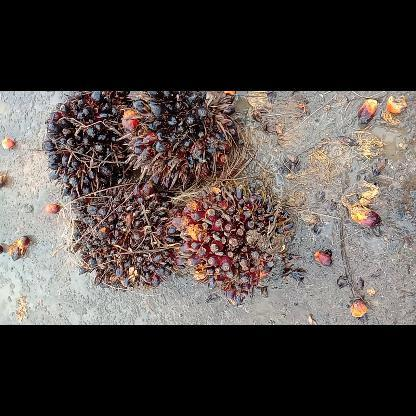TBS abnormal: (116, 91, 254, 189), (42, 90, 136, 196)
TBS masak: (169, 178, 299, 308), (67, 184, 182, 290)
